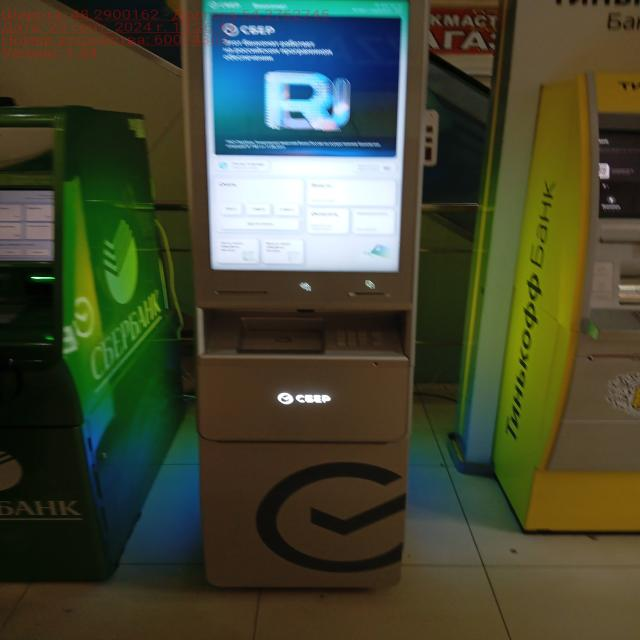bank: (183, 0, 414, 591), (0, 103, 182, 585)
